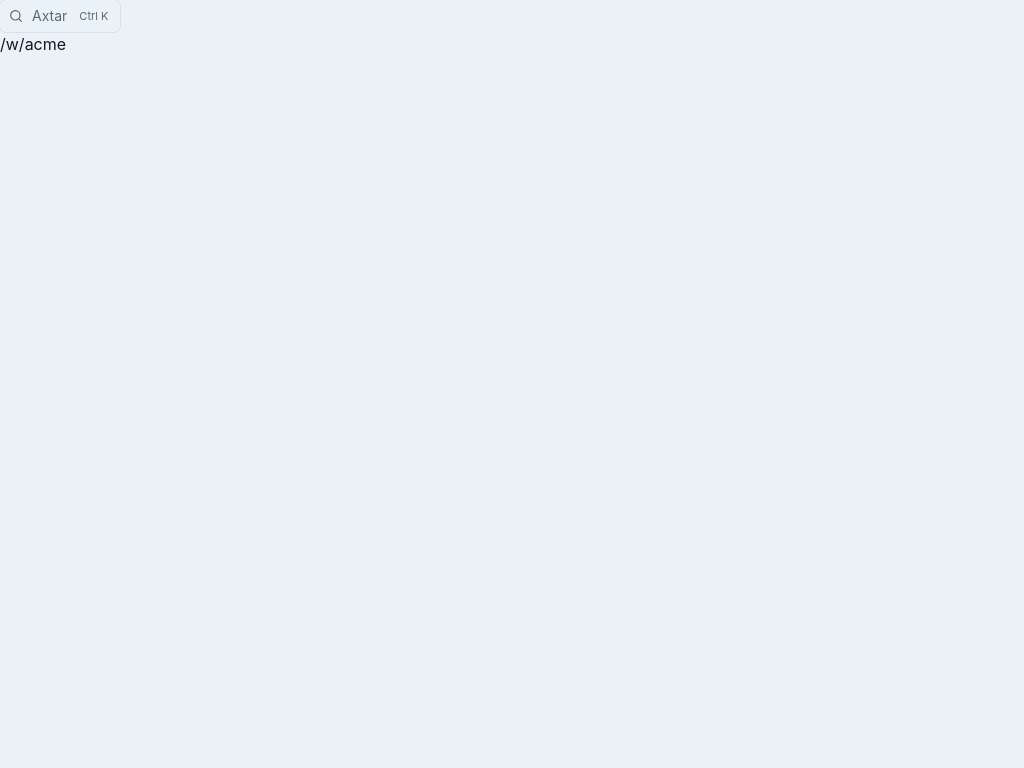
Test: GlobalSearch › does not query until the text is searchable, and opens a hit on click
Click the button "Axtar Ctrl K" at (60, 16), box [0,0,120,32]
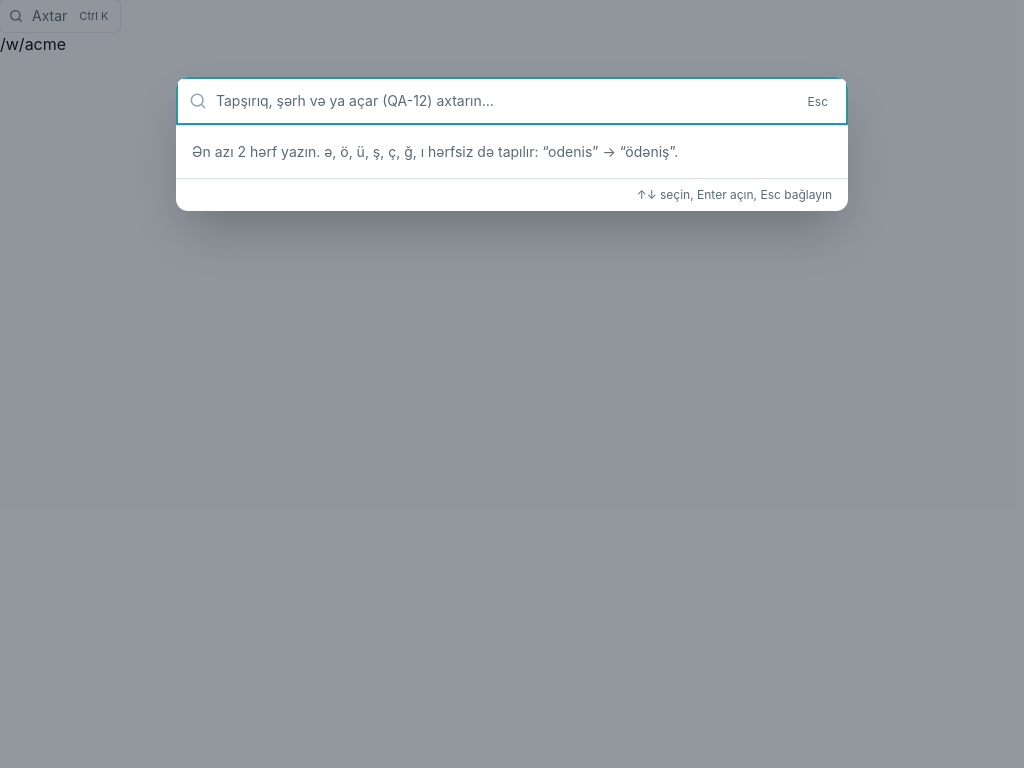
Type "a" into the dropdown at (504, 101), box [216,77,792,125]
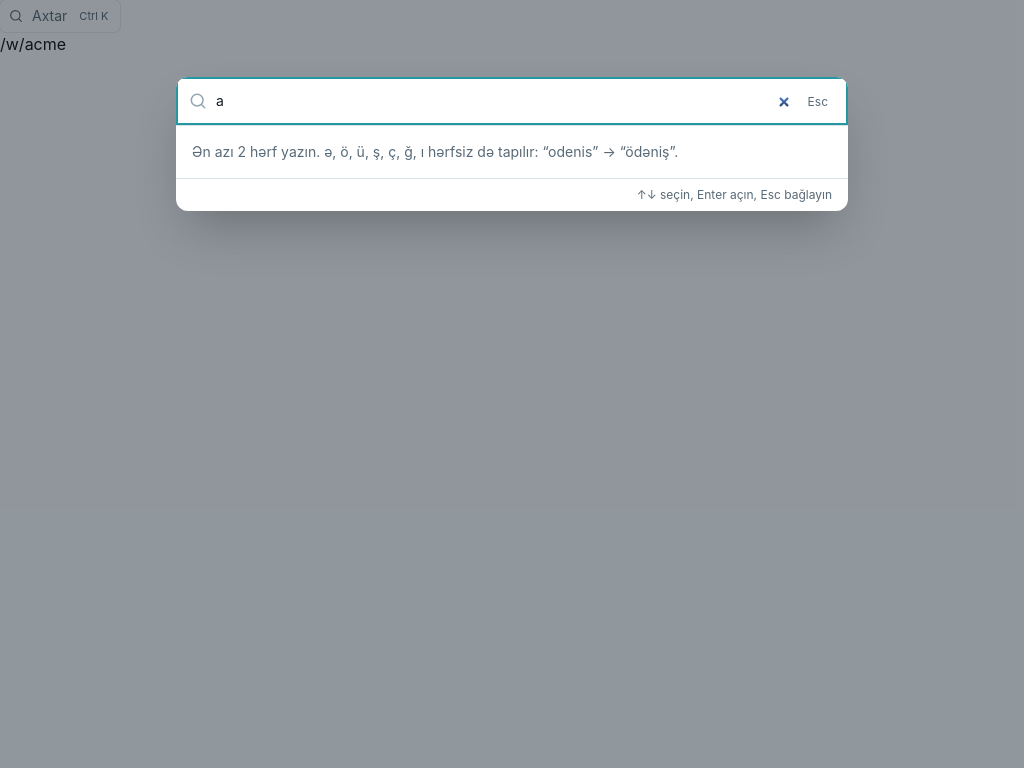
Replace the text in the dropdown with "QA-2" at (504, 101), box [216,77,792,125]
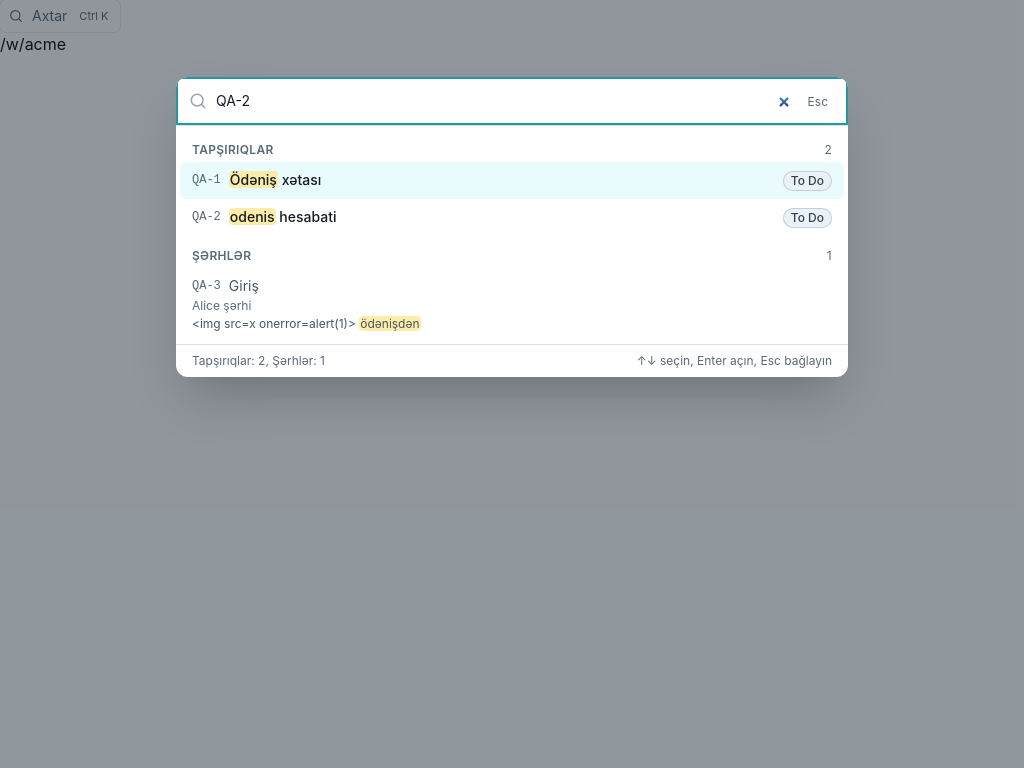
Now the message reads "Tapşırıqlar: 2, Şərhlər: 1", box [192,353,325,368]
Click the option "QA-2 odenis hesabati To Do" at (252, 217), box [192,208,832,228]
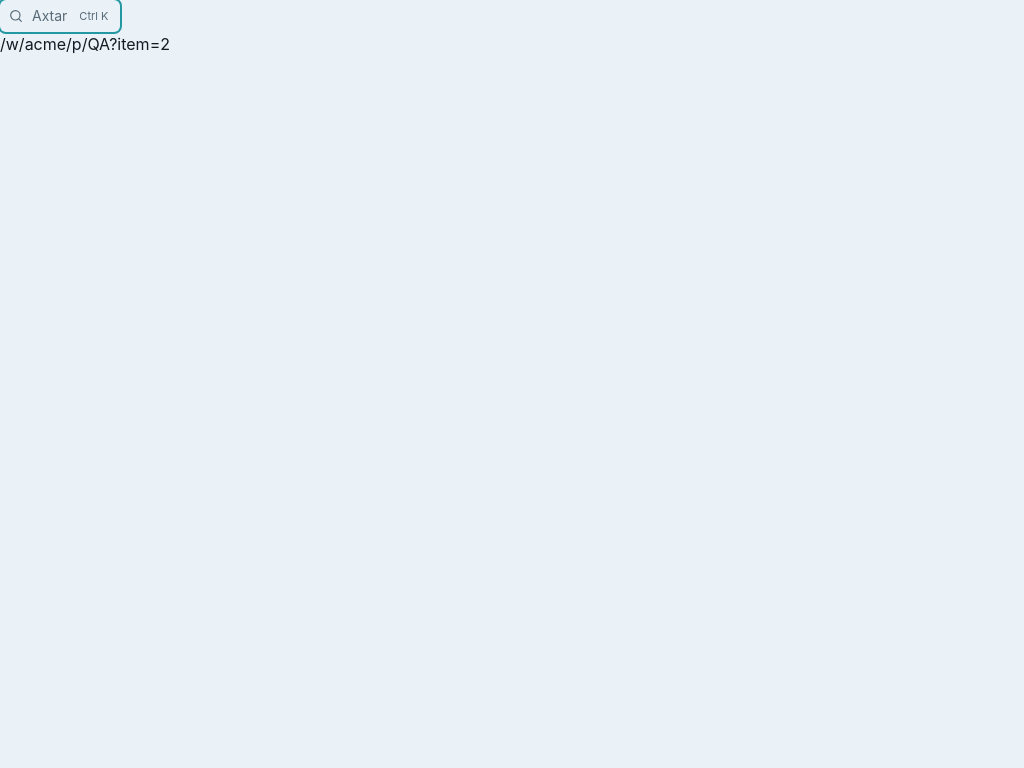
Now the text with test id "where" reads "/w/acme/p/QA?item=2", box [0,34,170,54]
